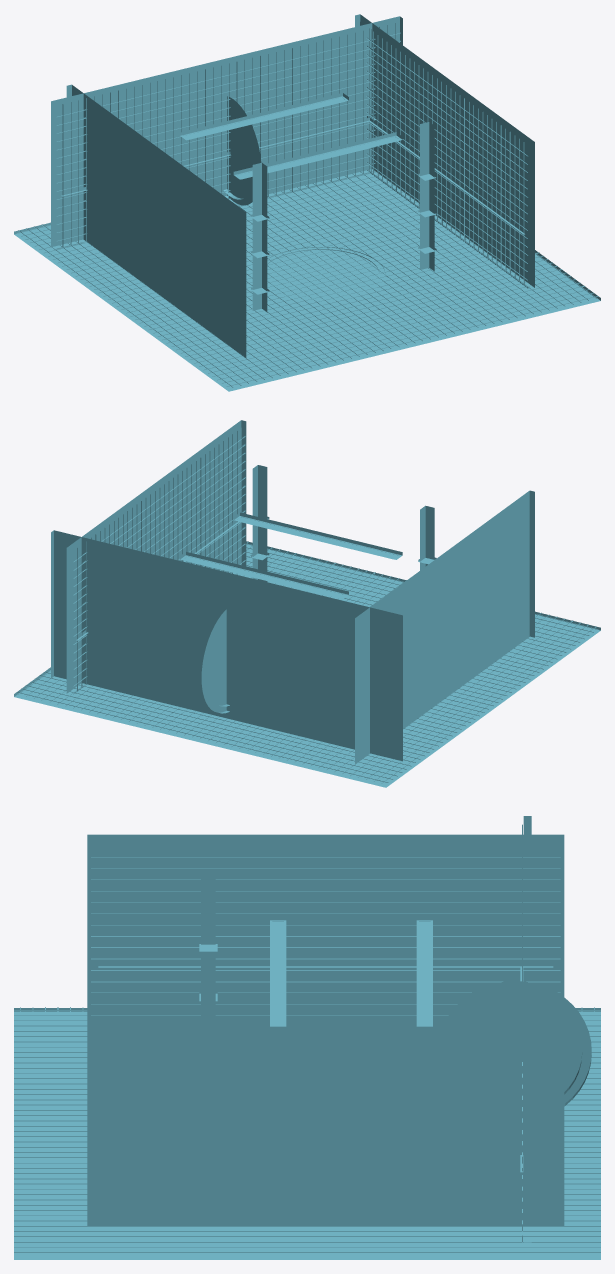
The model's file is neonroom2.glb.
3 renders of one model, top to bottom at view 1: azimuth 30°, elevation 25°; view 2: azimuth 150°, elevation 25°; view 3: azimuth 270°, elevation 25°, orthographic. The views are drawn at different scales.
Visible parts, largest first — view 1: FloorMat, BackWall, WallLeft, FloorGrid, WallRight, WallRightGrid, BackWallGrid, FloorRing, CeilingLights, PillarLeft, PillarRight, BackRing (+2 smaller); view 2: BackWall, WallLeft, FloorMat, WallRight, FloorGrid, WallRightGrid, CeilingLights, BackRing, PillarRight, PillarLeft; view 3: WallRight, WallLeft, FloorMat, WallLeftGrid, FloorGrid, BackRing, CeilingLights, LightStripLeft, PillarLeft, PillarRight.
Part boxes in pixels (bbox=[...]): FloorMat: bbox=[14, 174, 600, 391]; BackWall: bbox=[51, 16, 402, 249]; WallLeft: bbox=[66, 84, 246, 359]; FloorGrid: bbox=[16, 171, 598, 387]; WallRight: bbox=[355, 14, 534, 288]; WallRightGrid: bbox=[359, 21, 528, 288]; BackWallGrid: bbox=[56, 23, 400, 249]; FloorRing: bbox=[267, 247, 385, 301]; CeilingLights: bbox=[180, 93, 402, 179]; PillarLeft: bbox=[251, 162, 269, 314]; PillarRight: bbox=[418, 122, 436, 273]; BackRing: bbox=[223, 96, 261, 206]; BackWall: bbox=[51, 530, 402, 762]; WallLeft: bbox=[355, 490, 534, 765]; FloorMat: bbox=[14, 541, 600, 787]; WallRight: bbox=[66, 420, 246, 694]; FloorGrid: bbox=[16, 541, 598, 783]; WallRightGrid: bbox=[73, 427, 245, 694]; CeilingLights: bbox=[180, 512, 402, 599]; BackRing: bbox=[201, 609, 229, 713]; PillarRight: bbox=[251, 465, 269, 581]; PillarLeft: bbox=[418, 505, 436, 570]; WallRight: bbox=[87, 1026, 564, 1229]; WallLeft: bbox=[87, 834, 564, 1026]; FloorMat: bbox=[14, 1008, 600, 1259]; WallLeftGrid: bbox=[91, 841, 560, 1026]; FloorGrid: bbox=[14, 1007, 600, 1255]; BackRing: bbox=[443, 981, 591, 1106]; CeilingLights: bbox=[270, 915, 432, 1026]; LightStripLeft: bbox=[98, 962, 553, 967]; PillarLeft: bbox=[199, 873, 217, 1001]; PillarRight: bbox=[201, 985, 215, 1026].
Size of the model in its own units: 16 by 6.12 by 16.
